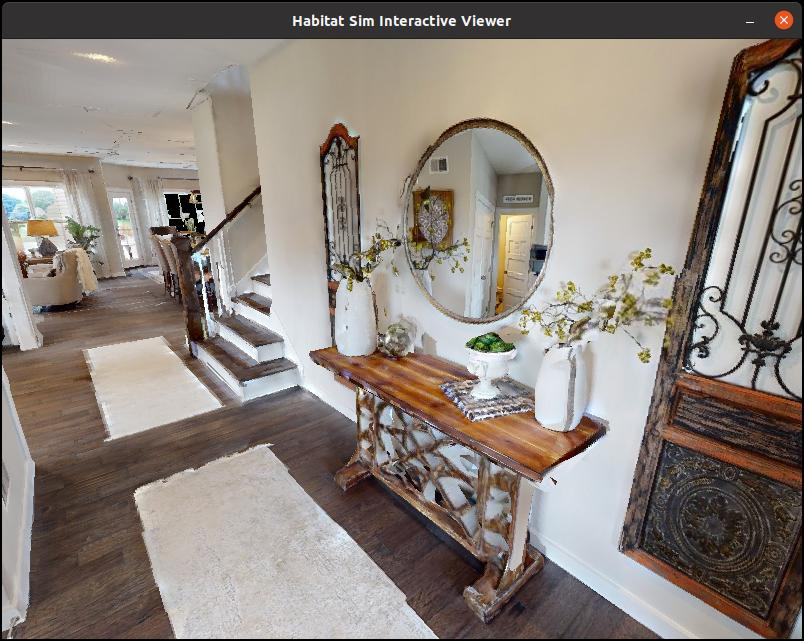table: (307, 316, 611, 606)
